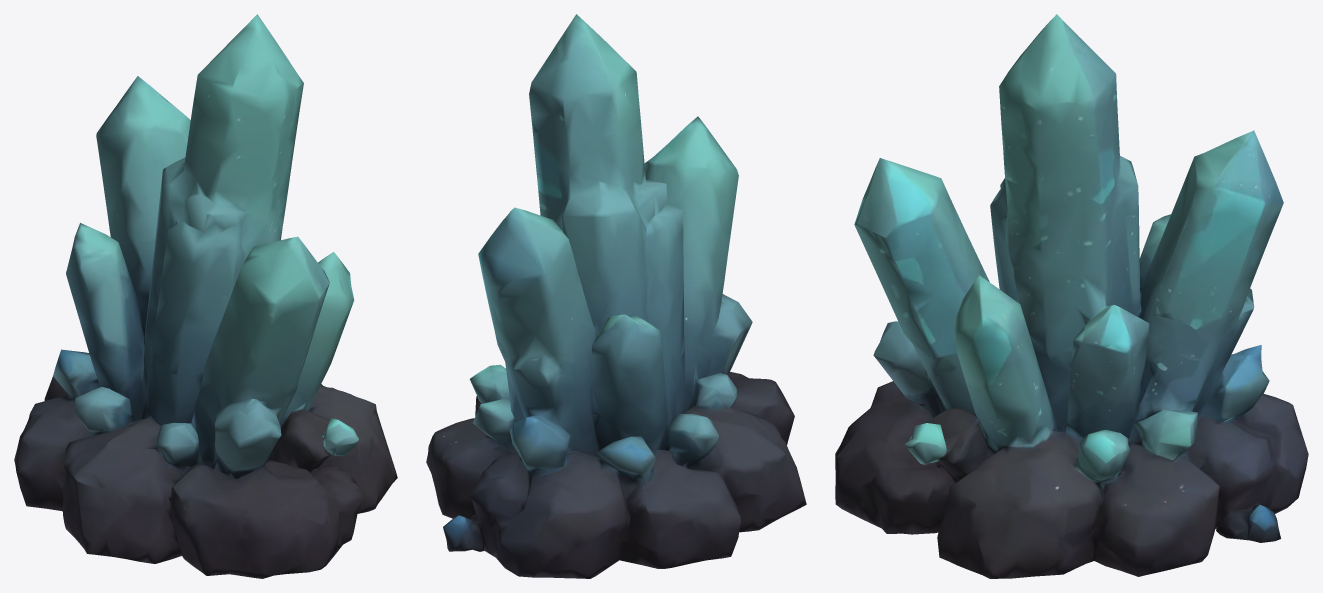
Rendered from crystals.glb.
3 views of the same model, side by side, from view 1: azimuth 30°, elevation 25°; view 2: azimuth 150°, elevation 25°; view 3: azimuth 270°, elevation 25° (orthographic). The views are drawn at different scales.
Parts seen in each view (by area): view 1: tripo_node_8446d22d-bedd-4180-96af-10341c8b3ab0; view 2: tripo_node_8446d22d-bedd-4180-96af-10341c8b3ab0; view 3: tripo_node_8446d22d-bedd-4180-96af-10341c8b3ab0.
Boxes of the visible parts, <box> form: tripo_node_8446d22d-bedd-4180-96af-10341c8b3ab0: <box>14,14,397,578</box>; tripo_node_8446d22d-bedd-4180-96af-10341c8b3ab0: <box>426,14,806,578</box>; tripo_node_8446d22d-bedd-4180-96af-10341c8b3ab0: <box>835,14,1308,578</box>.
Bounding box in the file's own units: 0.698 × 1 × 0.8378.
1 material, 1 textured.
